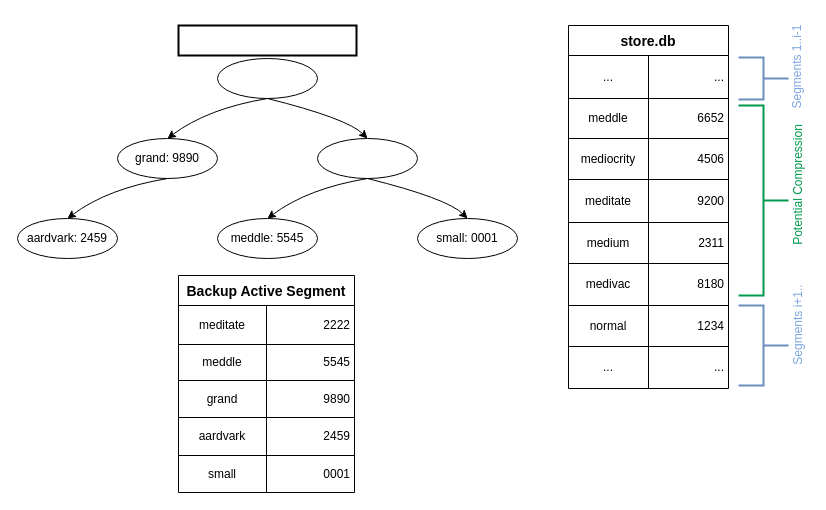
This 826x510 diagram has some shape labels left out. The centre of each missing label's shape, as x and y in pixels:
"Active Segment" goes at pixel 267 40.
"meditate: 2222" goes at pixel 367 158.
"root" goes at pixel 267 78.
